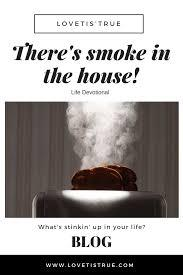smoke: (69, 99, 141, 170)
